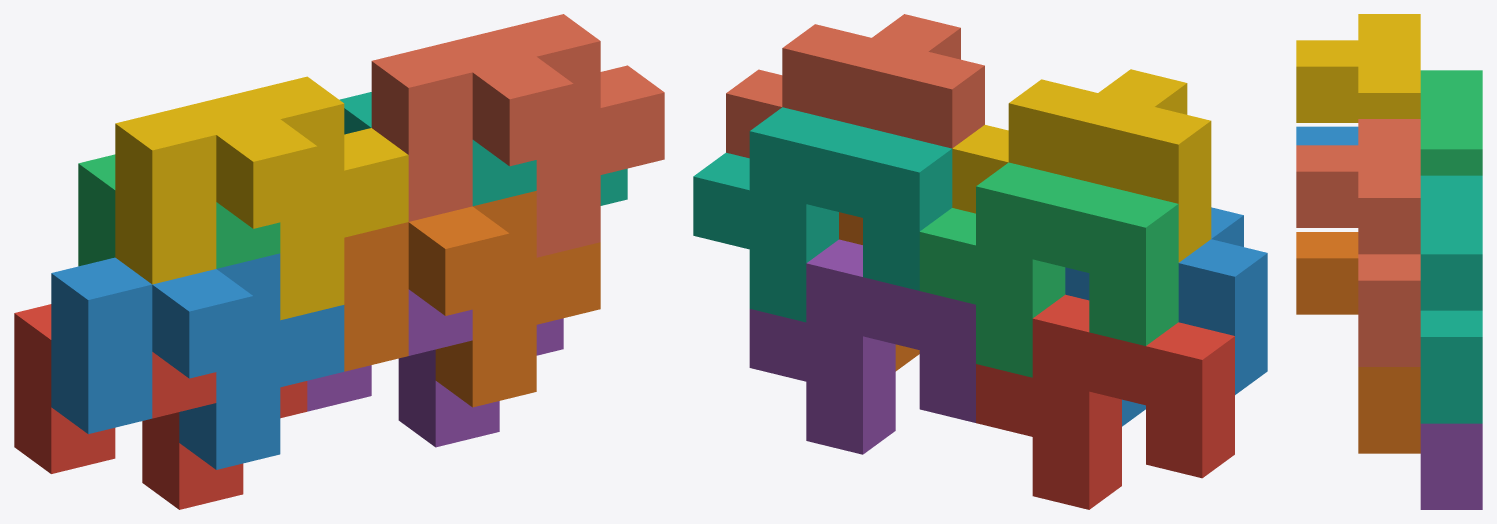
Rendered from tiling.obj.
3 views of the same model, side by side, from view 1: azimuth 30°, elevation 25°; view 2: azimuth 150°, elevation 25°; view 3: azimuth 270°, elevation 25° (orthographic). The views are drawn at different scales.
Visible parts, largest first — view 1: copy_1_domain_4, copy_1_domain_8, copy_1_domain_2, copy_1_domain_6, copy_1_domain_1, copy_1_domain_5, copy_1_domain_3, copy_1_domain_7; view 2: copy_1_domain_3, copy_1_domain_1, copy_1_domain_7, copy_1_domain_5, copy_1_domain_4, copy_1_domain_8, copy_1_domain_2, copy_1_domain_6; view 3: copy_1_domain_8, copy_1_domain_7, copy_1_domain_4, copy_1_domain_6, copy_1_domain_3, copy_1_domain_5, copy_1_domain_2.
Boxes of the visible parts, bbox=[...] form: copy_1_domain_4: bbox=[115, 76, 408, 320]; copy_1_domain_8: bbox=[371, 14, 664, 257]; copy_1_domain_2: bbox=[51, 253, 344, 469]; copy_1_domain_6: bbox=[344, 191, 600, 407]; copy_1_domain_1: bbox=[14, 304, 307, 509]; copy_1_domain_5: bbox=[307, 289, 563, 447]; copy_1_domain_3: bbox=[78, 154, 280, 268]; copy_1_domain_7: bbox=[339, 92, 627, 206]; copy_1_domain_3: bbox=[919, 162, 1178, 377]; copy_1_domain_1: bbox=[976, 294, 1234, 509]; copy_1_domain_7: bbox=[693, 107, 952, 322]; copy_1_domain_5: bbox=[749, 239, 975, 454]; copy_1_domain_4: bbox=[952, 69, 1211, 262]; copy_1_domain_8: bbox=[726, 14, 984, 158]; copy_1_domain_2: bbox=[1065, 207, 1267, 426]; copy_1_domain_6: bbox=[839, 212, 919, 371]; copy_1_domain_8: bbox=[1296, 119, 1420, 366]; copy_1_domain_7: bbox=[1420, 175, 1482, 423]; copy_1_domain_4: bbox=[1296, 14, 1420, 122]; copy_1_domain_6: bbox=[1296, 232, 1420, 453]; copy_1_domain_3: bbox=[1420, 70, 1482, 175]; copy_1_domain_5: bbox=[1420, 423, 1482, 509]; copy_1_domain_2: bbox=[1296, 126, 1358, 145].
Size of the model in its own units: 9 by 6 by 3.
